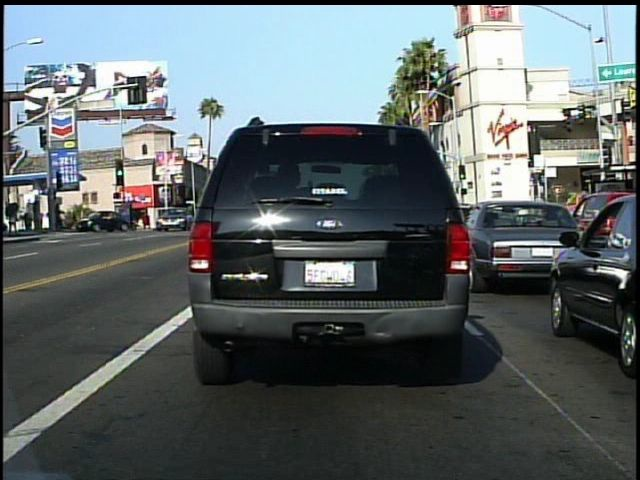person: (4, 199, 23, 237)
